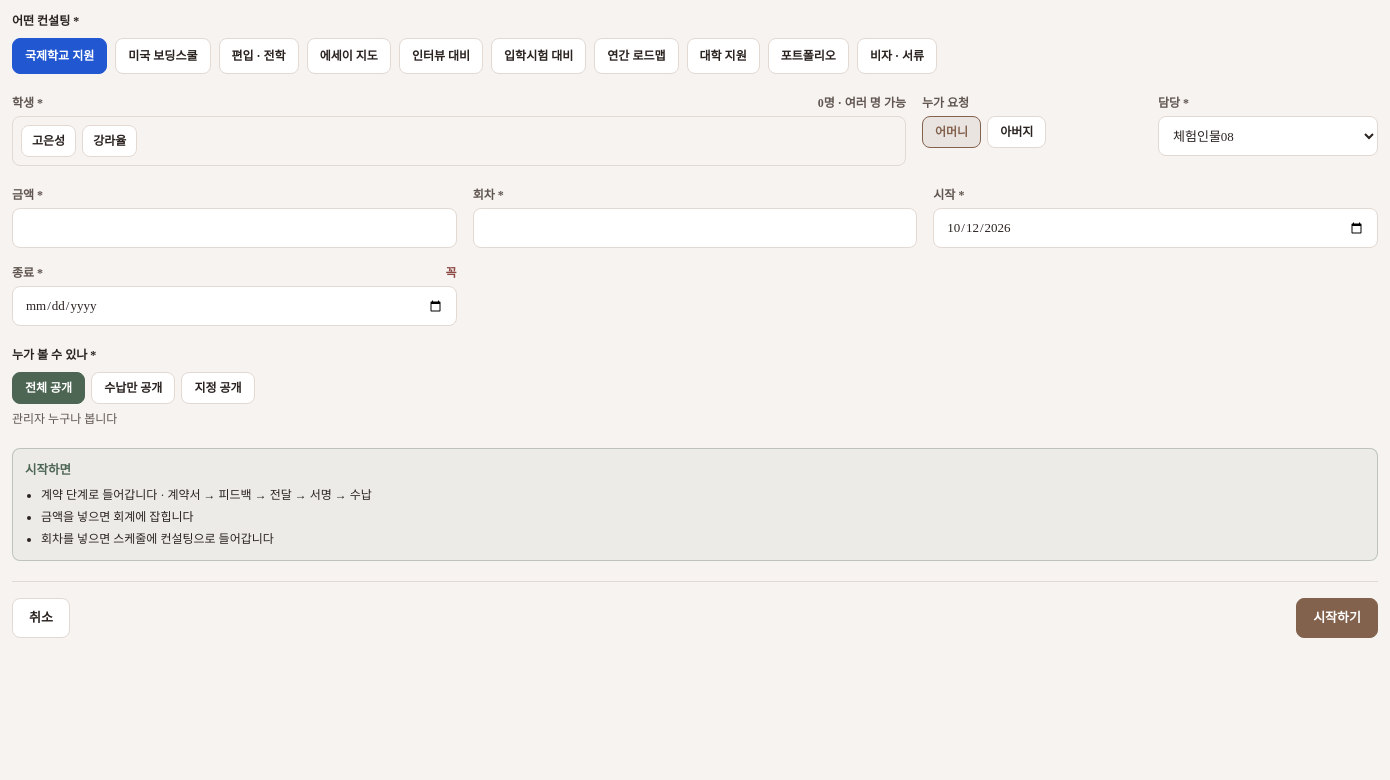
Test: ConsultingStartForm › 원본 §29 모양 — 「누가 요청」 칩(필수 표시 없음) · 공개 범위 뜻 한 줄(서버 낱말) · 「시작하면」 세 줄 · 바닥 「취소」 왼쪽 (29-03 · 29-06 · 29-07 · 29-08)
The width and height of the screenshot is (1390, 780).
Expected: the text "누가 요청" is shown, [922,94,969,112]
Expected: the button "어머니" is shown, [922,116,981,148]
Click the button "수납만 공개".
click(133, 388)  # box [91,372,175,404]
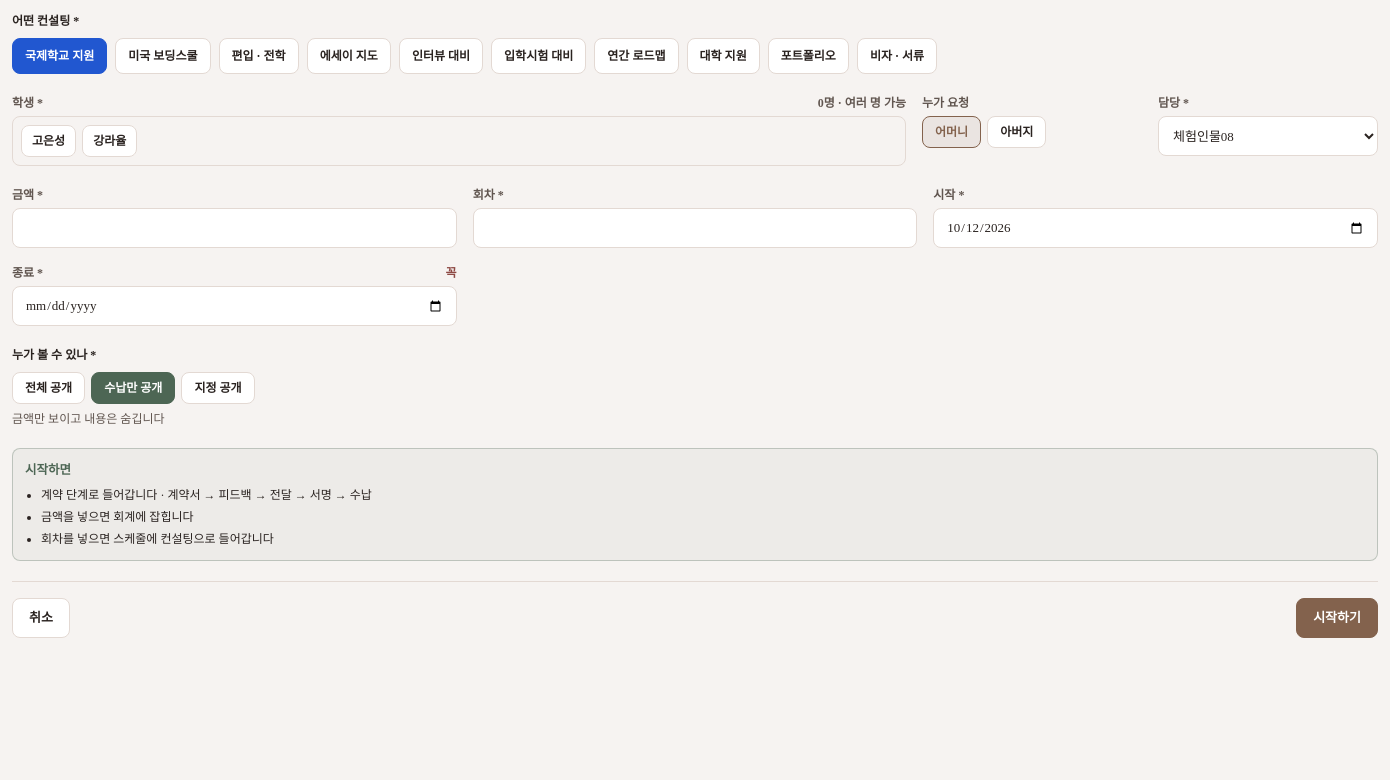
Expected: the text "꼭" is shown, [446,266,457,280]
Now the text "금액만 보이고 내용은 숨깁니다" is shown, box [12,412,164,426]
Type "800000" into the number field labelled "금액 *".
click(234, 228); type("800000")  # box [12,208,457,248]
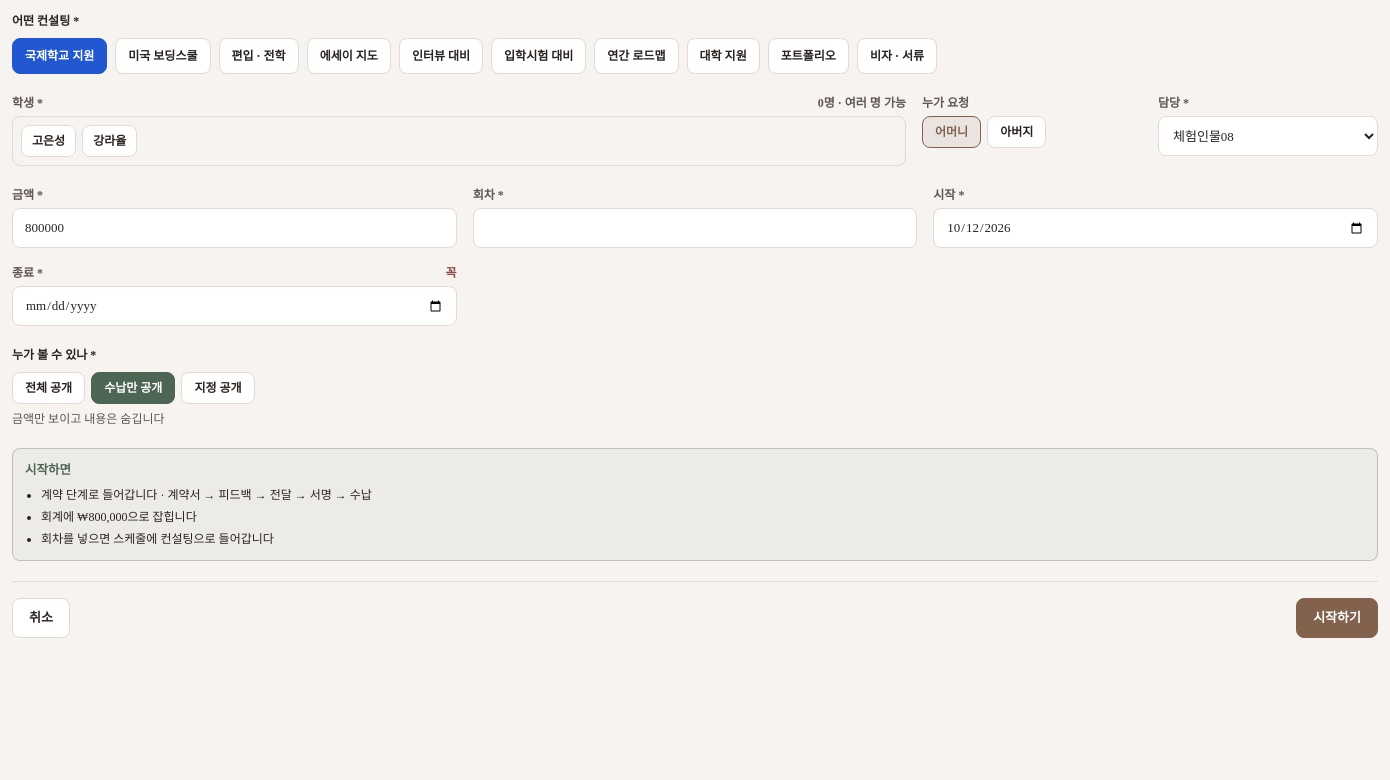
Expected: the element "시작하면" shows "계약 단계로 들어갑니다 · 계약서 → 피드백 → 전달 → 서명 → 수납", [41,488,372,502]
Now the element "시작하면" shows "회계에 ₩800,000으로 잡힙니다", box [41,510,197,524]
